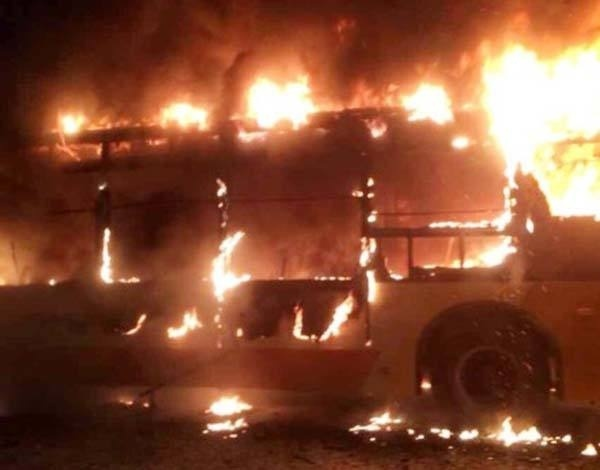fire: (350, 404, 591, 448), (202, 391, 253, 435)
